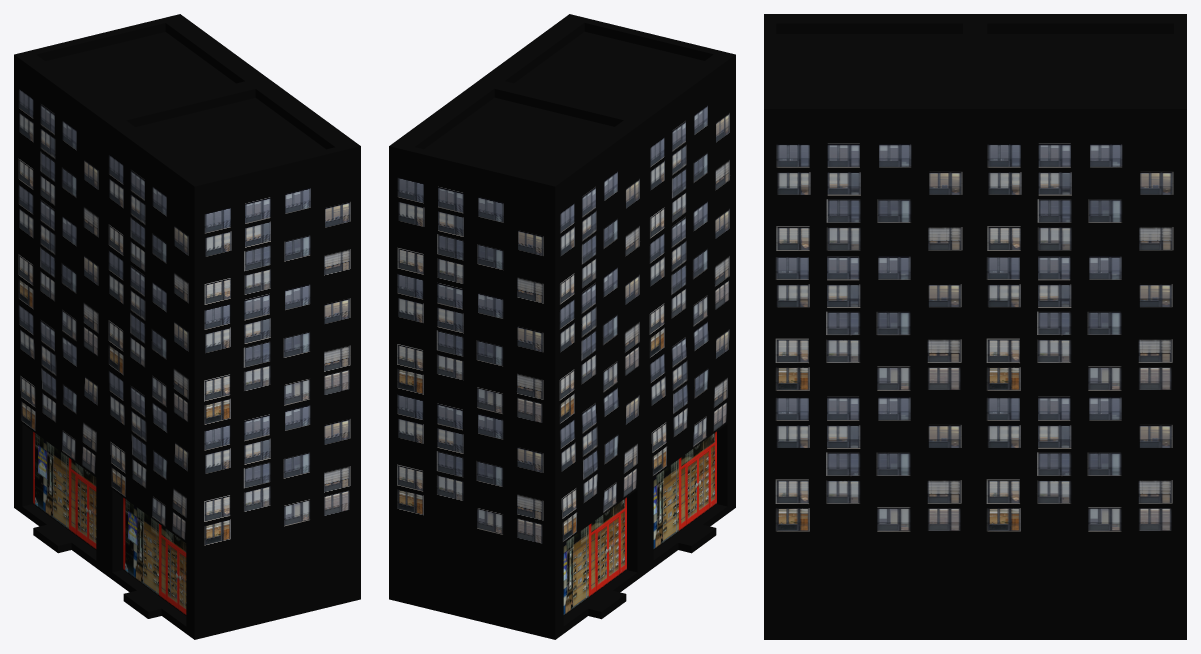
The model's file is building2.FBX.
3 views of the same model, side by side, from view 1: azimuth 30°, elevation 25°; view 2: azimuth 150°, elevation 25°; view 3: azimuth 270°, elevation 25° (orthographic). The views are drawn at different scales.
Visible parts, largest first — view 1: Box003; view 2: Box003; view 3: Box003.
Boxes of the visible parts, x1,y1,x2,y2 form: Box003: (14, 14, 360, 639); Box003: (389, 14, 735, 639); Box003: (764, 14, 1186, 639).
Size of the model in its own units: 64.95 by 156 by 113.
